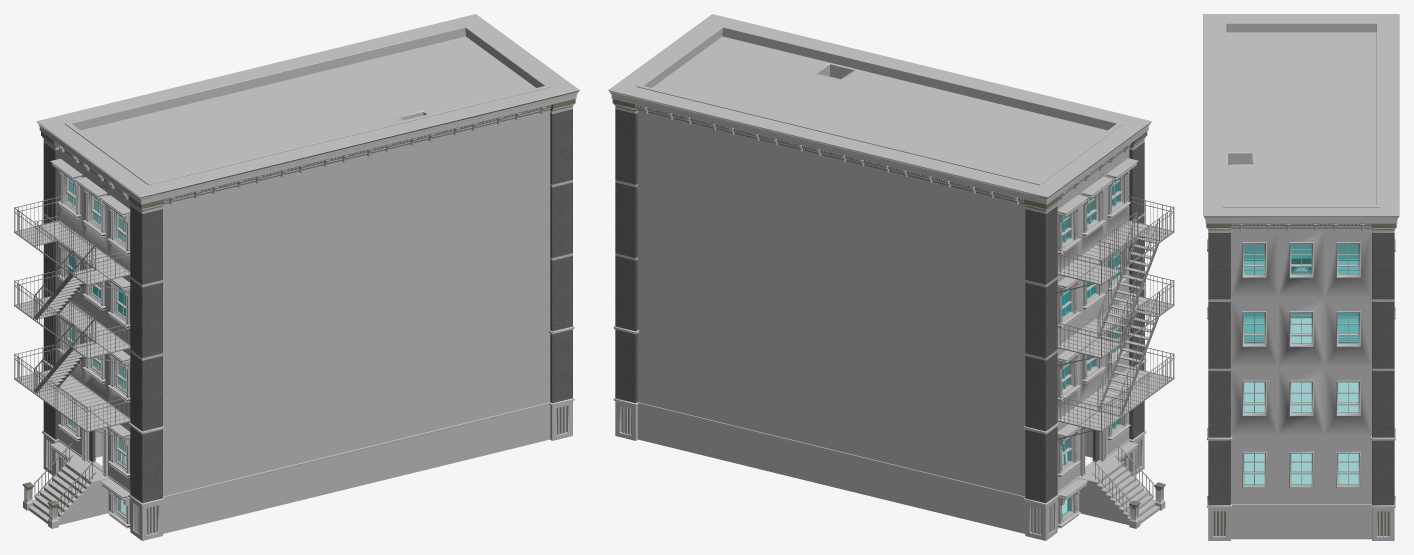
Rendered from SM_Building10_V3.fbx.
3 views of the same model, side by side, from view 1: azimuth 30°, elevation 25°; view 2: azimuth 150°, elevation 25°; view 3: azimuth 270°, elevation 25° (orthographic). The views are drawn at different scales.
Parts seen in each view (by area): view 1: SM_Building10_V3; view 2: SM_Building10_V3; view 3: SM_Building10_V3.
Boxes of the visible parts, x1=… form: SM_Building10_V3: x1=14, y1=14, x2=579, y2=540; SM_Building10_V3: x1=608, y1=14, x2=1174, y2=540; SM_Building10_V3: x1=1203, y1=14, x2=1399, y2=540.
Size of the model in its own units: 2837 by 1921 by 1042.
